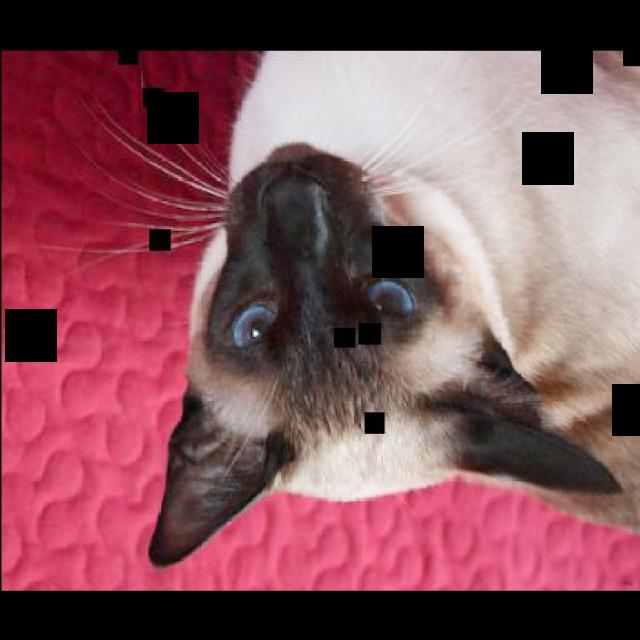unauthorized: (39, 48, 638, 569)
